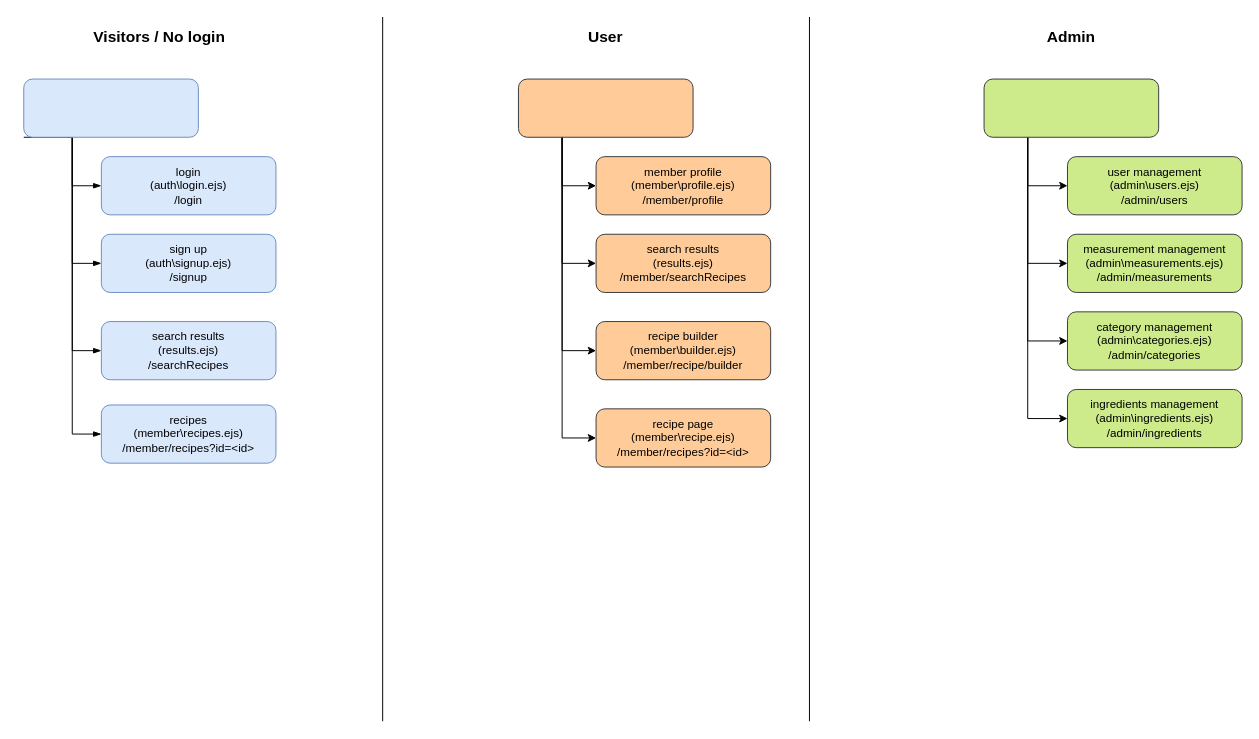
This 1259x739 diagram has some shape labels left out. The box of each missing label's shape, as (x1, y1, x2, y2) in pixels:
home (member\index.ejs) /member: (517, 78, 693, 137)
home (visitor\index.ejs) /: (23, 78, 198, 137)
index/admin home (admin\index.ejs) /admin: (983, 78, 1159, 137)
